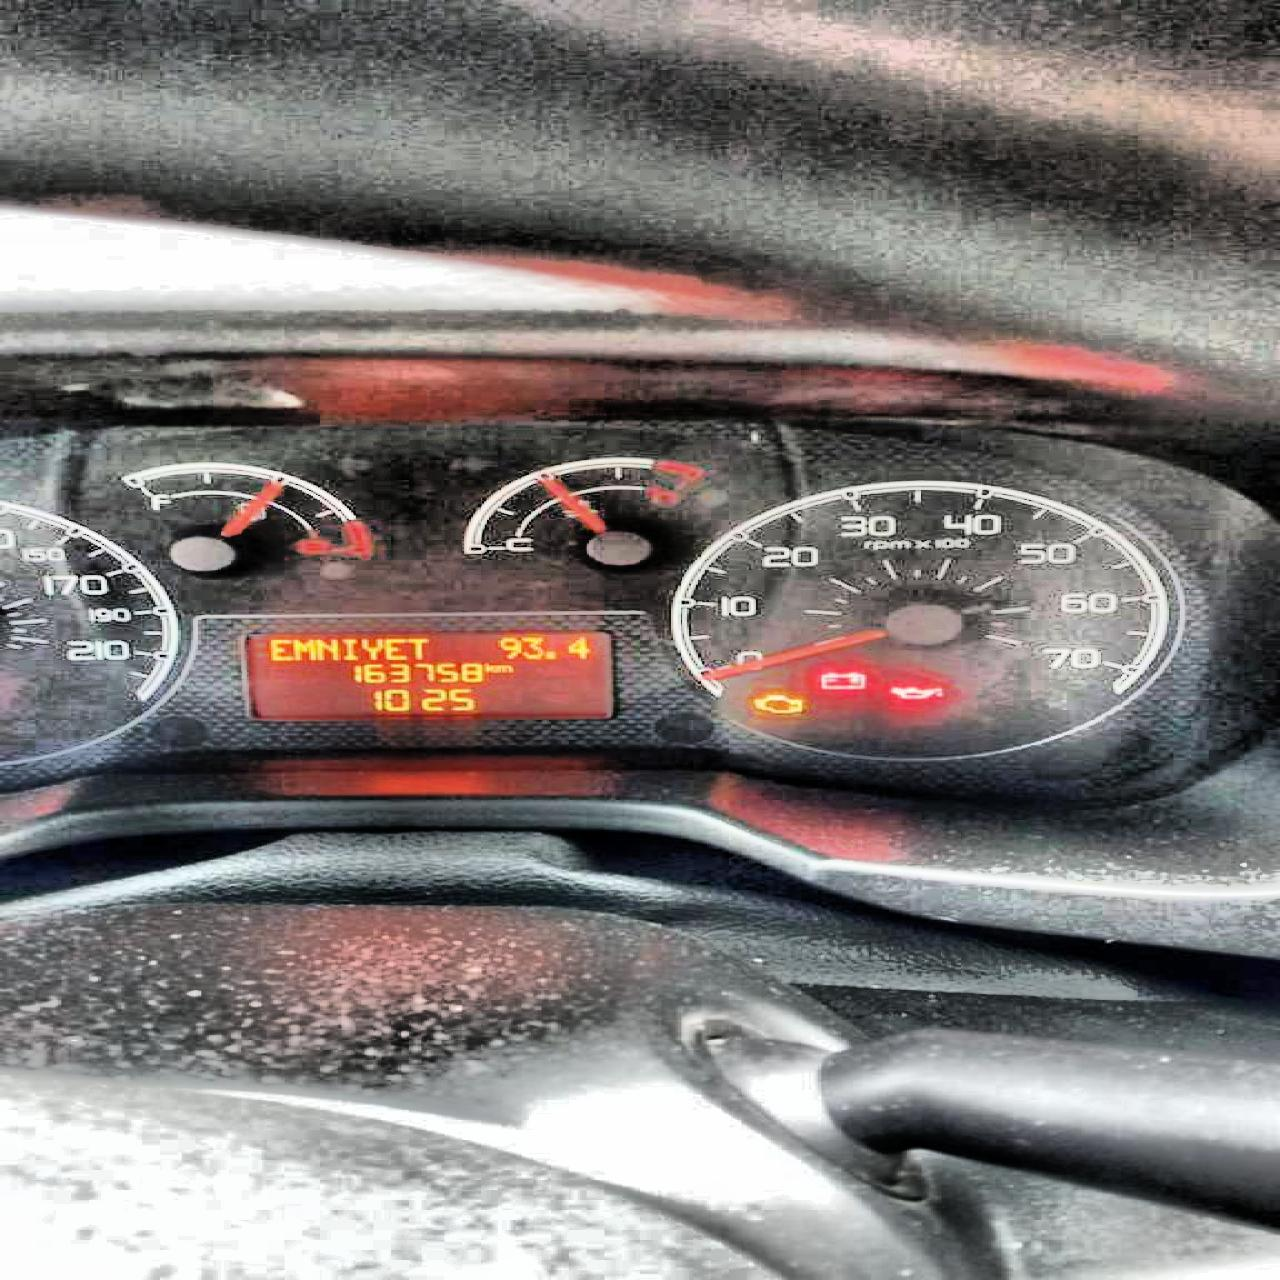-: (543, 649, 556, 660)
0: (382, 687, 407, 712)
1: (349, 662, 360, 686), (372, 688, 380, 712)
2: (420, 686, 444, 710)
3: (520, 633, 542, 659), (384, 661, 409, 681)
4: (565, 635, 593, 659)
5: (447, 687, 474, 712), (436, 661, 456, 681)
6: (362, 661, 382, 682)
7: (413, 661, 431, 681)
8: (459, 661, 481, 682)
9: (496, 633, 517, 659)
X: (267, 636, 291, 662), (404, 636, 431, 659), (358, 635, 380, 660), (382, 635, 404, 660), (313, 636, 335, 659), (338, 635, 358, 660), (293, 636, 313, 660), (493, 662, 513, 673), (484, 660, 493, 673)
odometer: (238, 628, 615, 721)
